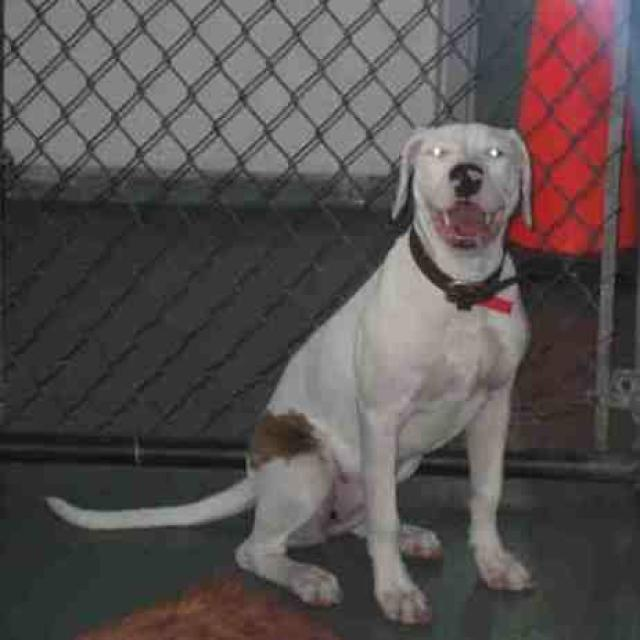dog: (43, 121, 535, 625)
